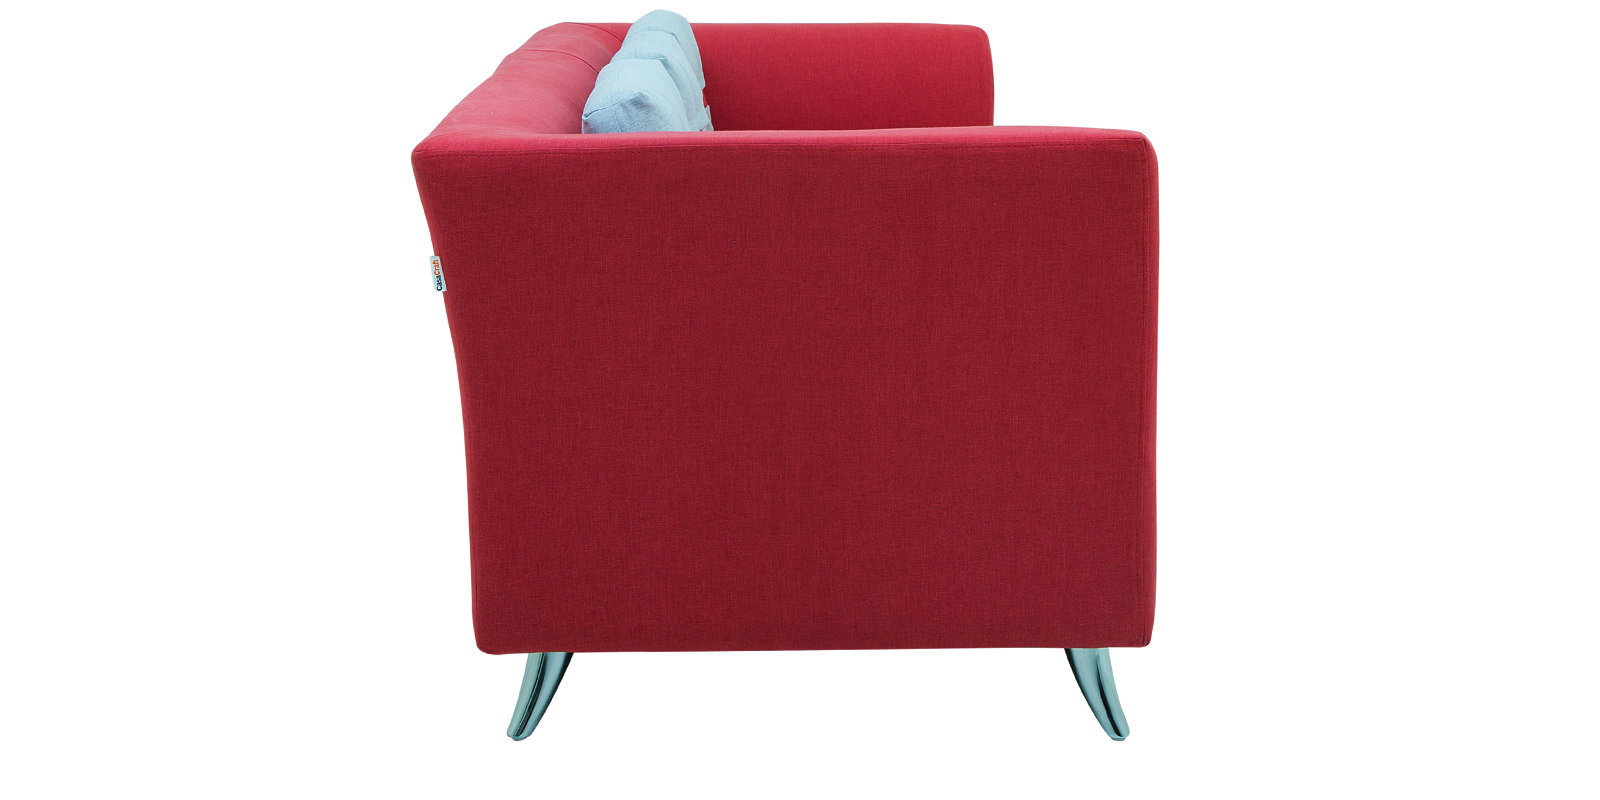Iowa Three Seater Sofa in Crimson Red Colour by Furnitech: (411, 5, 1193, 763)
